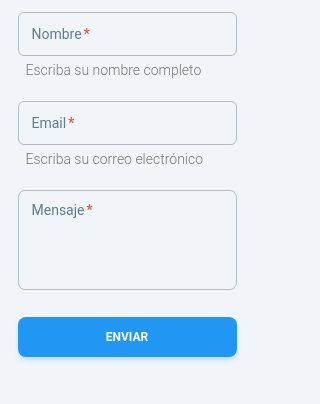
Test: ContactForm › should display error messages for invalid form submission
Click the button with test id "submit-button".
click(127, 337)  # box [18, 317, 236, 357]
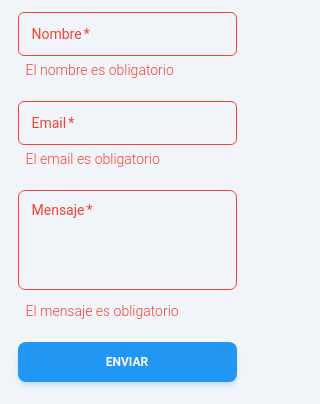
Check: the text "El nombre es obligatorio" is shown, box [26, 62, 174, 78]
Check: the text "El email es obligatorio" is shown, box [26, 151, 160, 167]
Check: the text "El mensaje es obligatorio" is shown, box [26, 303, 179, 319]
